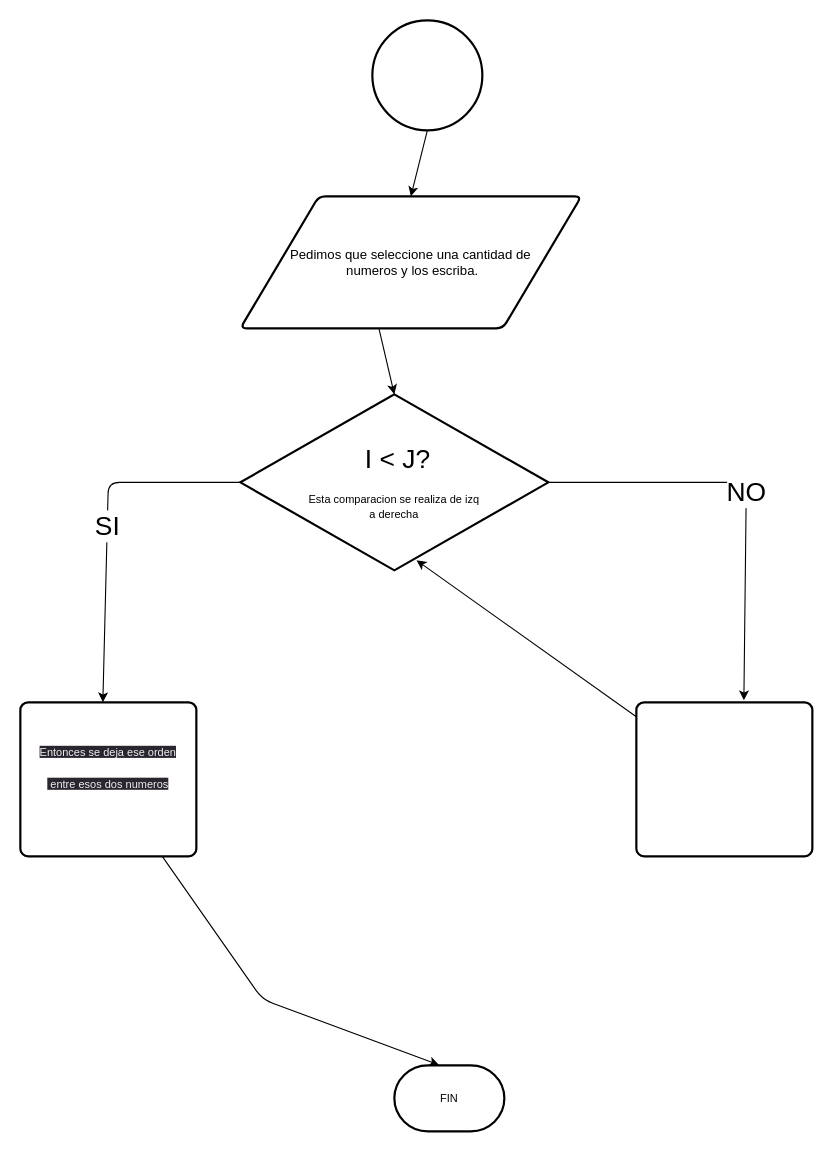
Image size: 832x1151. Some labels were removed from this diagram. Here are the shapes that lost their labels. From the top down, the centre of each, then its label:
At pixel 427 75: "Inicio".
At pixel 724 779: "Entonces se intercambian la posición".
